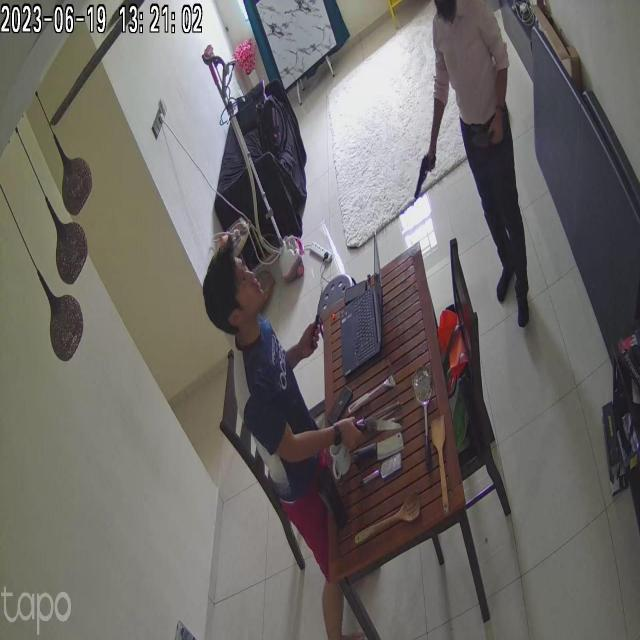Gun: (404, 153, 444, 209)
